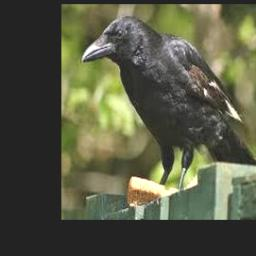Crow: (81, 15, 256, 195)
